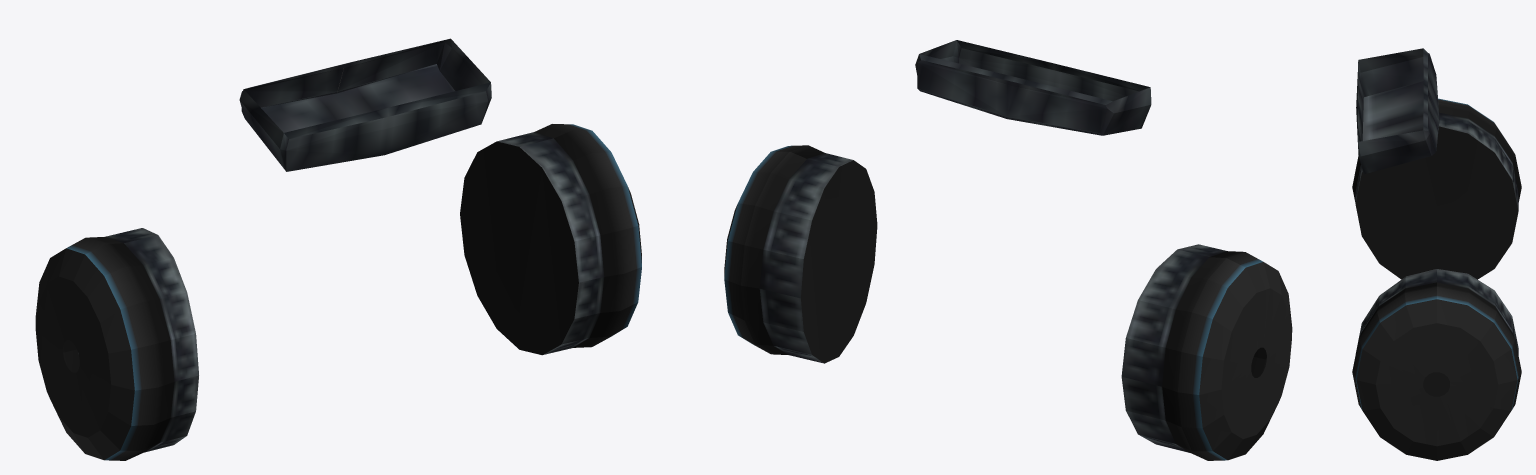
Rendered from Head Phones.fbx.
3 renders of one model, left to right at view 1: azimuth 30°, elevation 25°; view 2: azimuth 150°, elevation 25°; view 3: azimuth 270°, elevation 25°, orthographic. The views are drawn at different scales.
Parts seen in each view (by area): view 1: Cube; view 2: Cube; view 3: Cube.
Boxes of the visible parts, x1=… form: Cube: x1=35, y1=38, x2=641, y2=460; Cube: x1=724, y1=40, x2=1292, y2=460; Cube: x1=1352, y1=48, x2=1521, y2=460.
Bounding box in the file's own units: 36.32 × 20.94 × 10.78.
